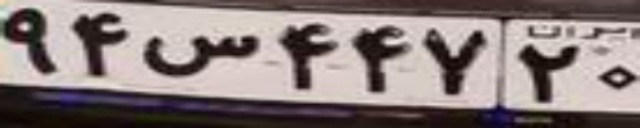0: (590, 64, 637, 91)
2: (516, 43, 579, 103)
4: (350, 24, 414, 94), (278, 22, 343, 90), (70, 12, 132, 76)
7: (420, 27, 491, 95)
9: (5, 7, 57, 73)
sin: (140, 33, 260, 77)
